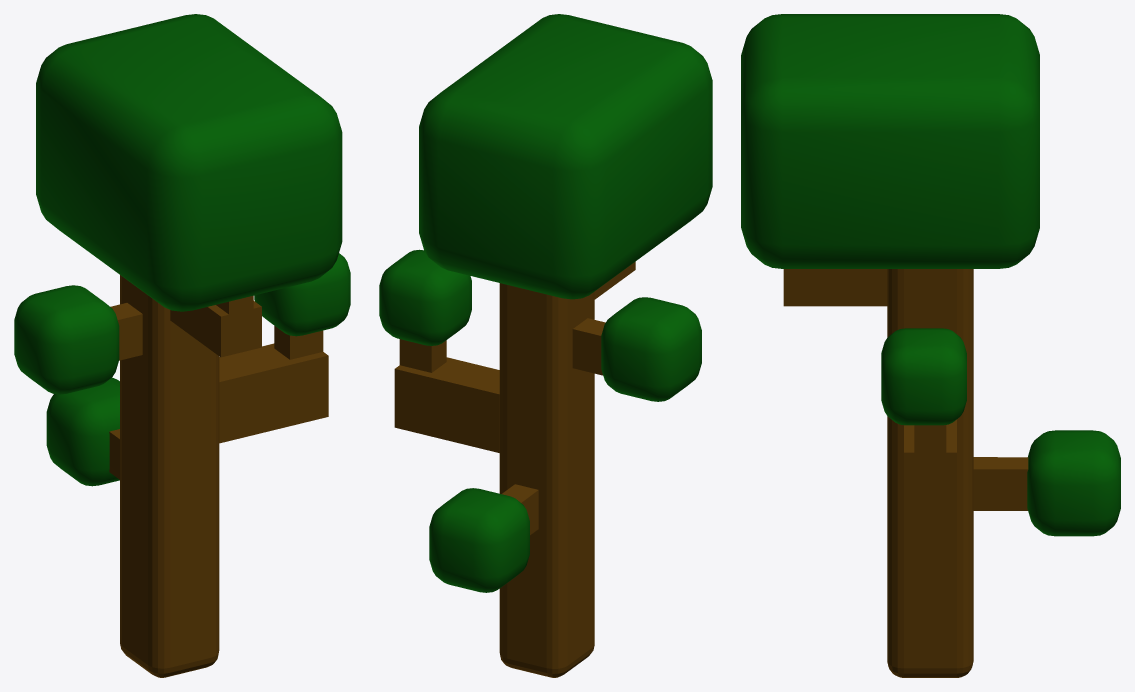
Rendered from tree.fbx.
3 views of the same model, side by side, from view 1: azimuth 30°, elevation 25°; view 2: azimuth 150°, elevation 25°; view 3: azimuth 270°, elevation 25° (orthographic). The views are drawn at different scales.
Visible parts, largest first — view 1: Cube_3, Cube_2_2, Cube_1, Cube, Cube_2; view 2: Cube_3, Cube_2_2, Cube_1, Cube, Cube_2; view 3: Cube_3, Cube_2_2, Cube, Cube_2.
Boxes of the visible parts, x1,y1,x2,y2 form: Cube_3: (36, 14, 342, 311); Cube_2_2: (109, 275, 328, 677); Cube_1: (14, 285, 119, 394); Cube: (46, 377, 119, 486); Cube_2: (254, 253, 350, 336); Cube_3: (419, 14, 712, 299); Cube_2_2: (394, 261, 635, 677); Cube_1: (601, 297, 701, 401); Cube: (429, 488, 529, 592); Cube_2: (379, 249, 471, 345); Cube_3: (741, 14, 1039, 268); Cube_2_2: (783, 269, 1028, 677); Cube: (1027, 430, 1120, 536); Cube_2: (881, 328, 966, 425).
Bounding box in the file's own units: 1.77 × 3.29 × 1.83.
